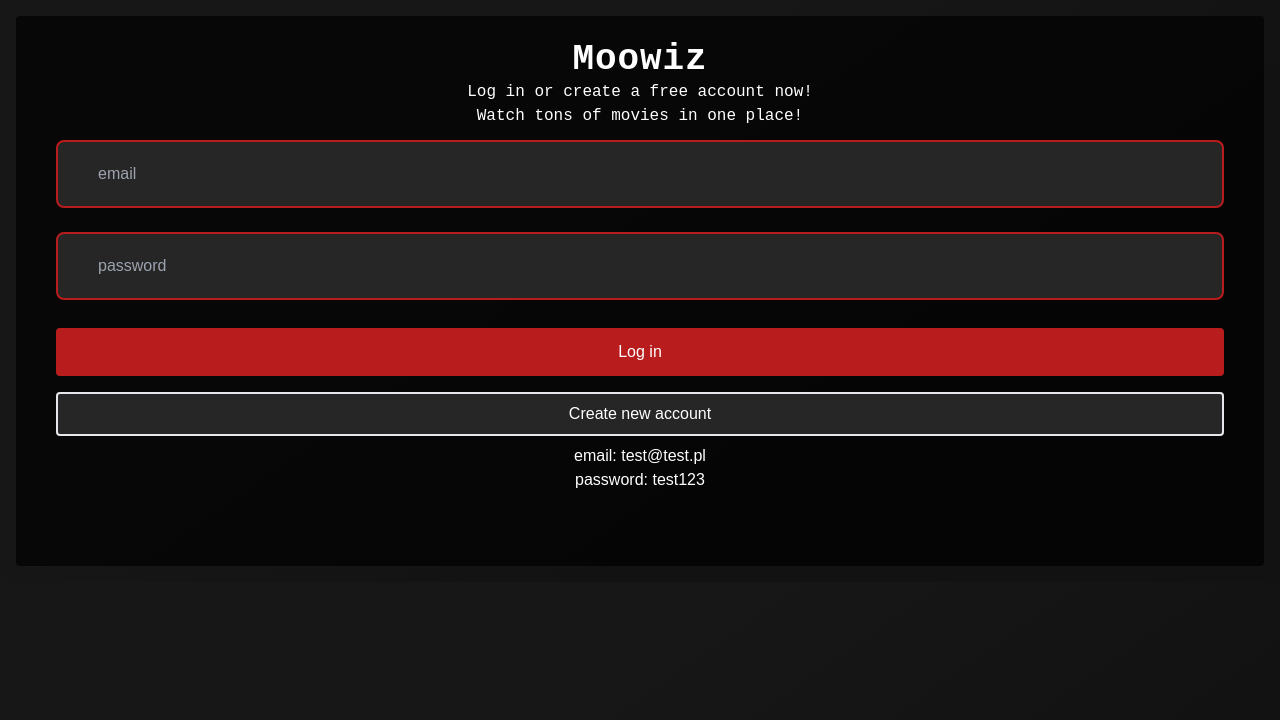
Test: AuthForm › displays error notification on failed login
Type "wrong@test.pl" into the field with placeholder "email" at (640, 174), box [56,140,1224,208]
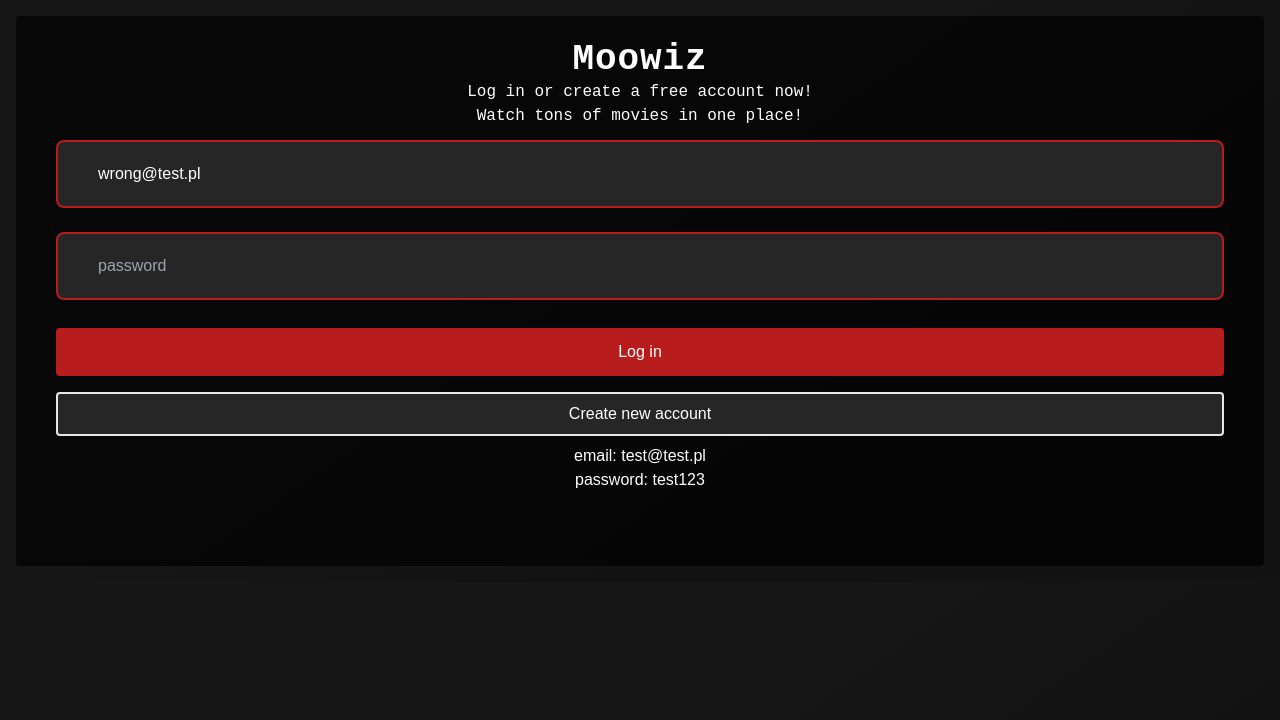
Type "wrongpass" into the password field with placeholder "password" at (640, 266), box [56,232,1224,300]
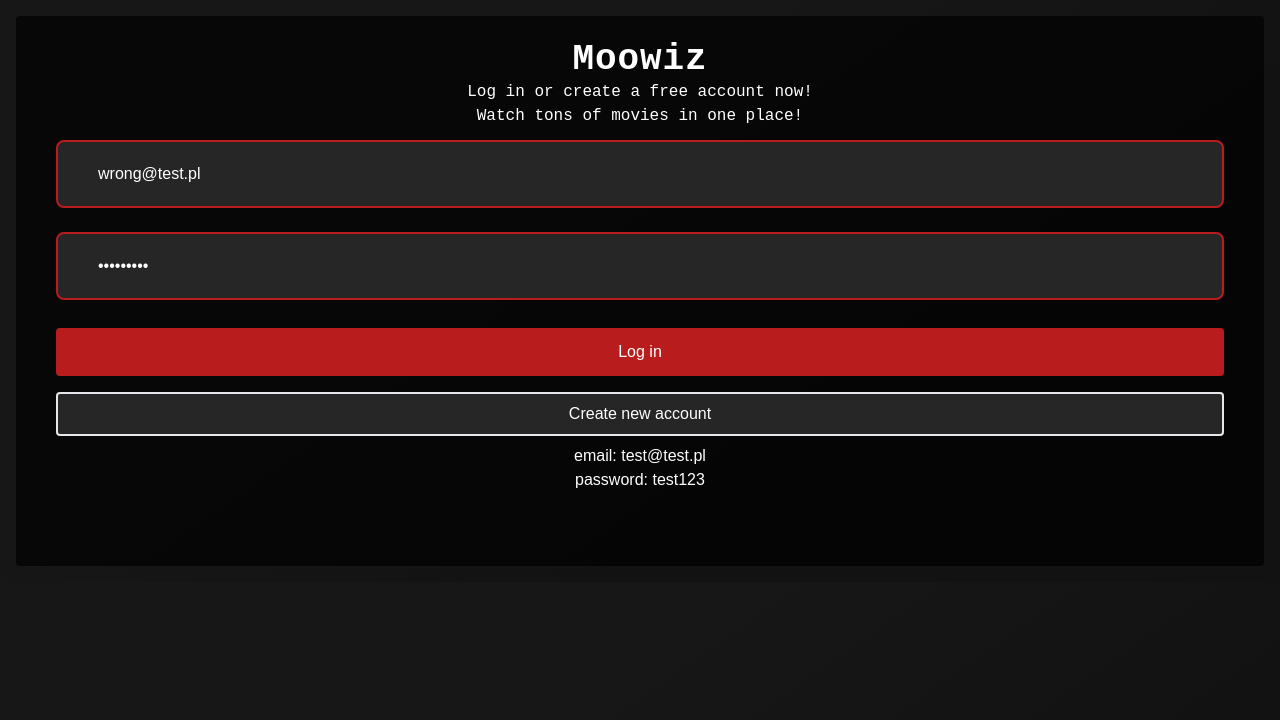
Submit the form, box [56,128,1224,392]
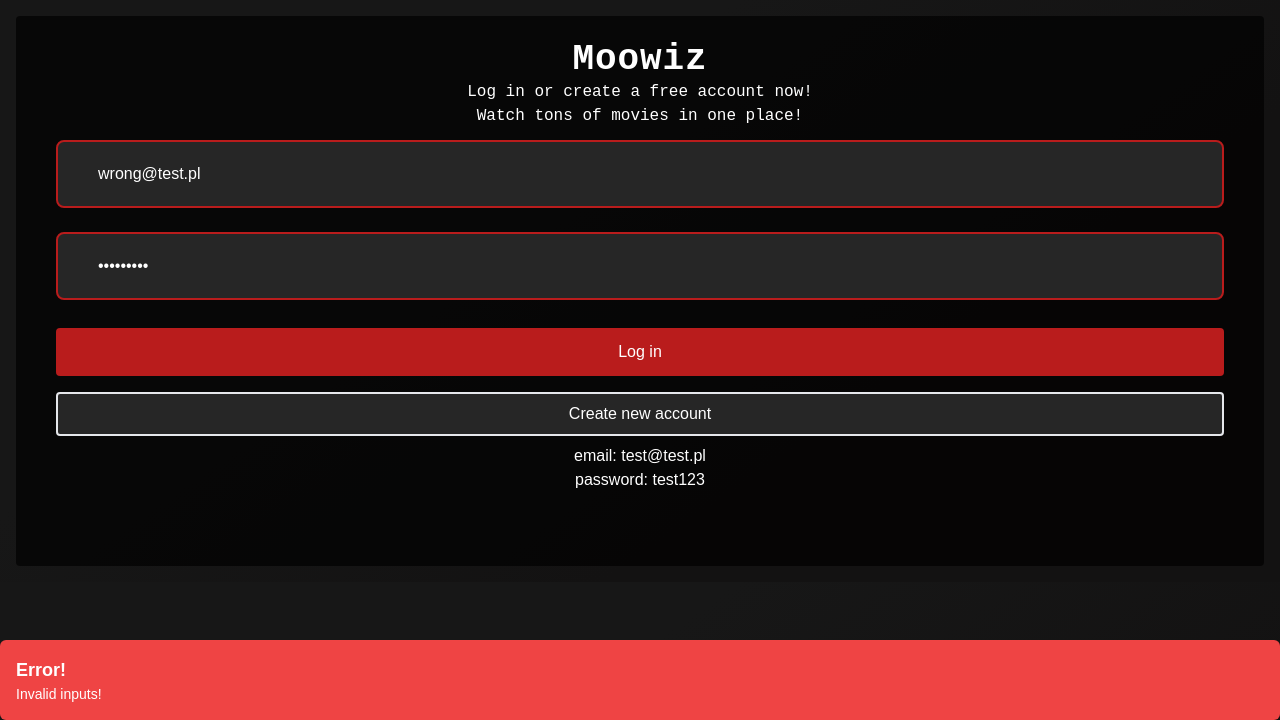
Check: the heading "Error!" is shown, box [16,660,66,680]
Check: the text "Invalid inputs!" is shown, box [16,686,102,702]
